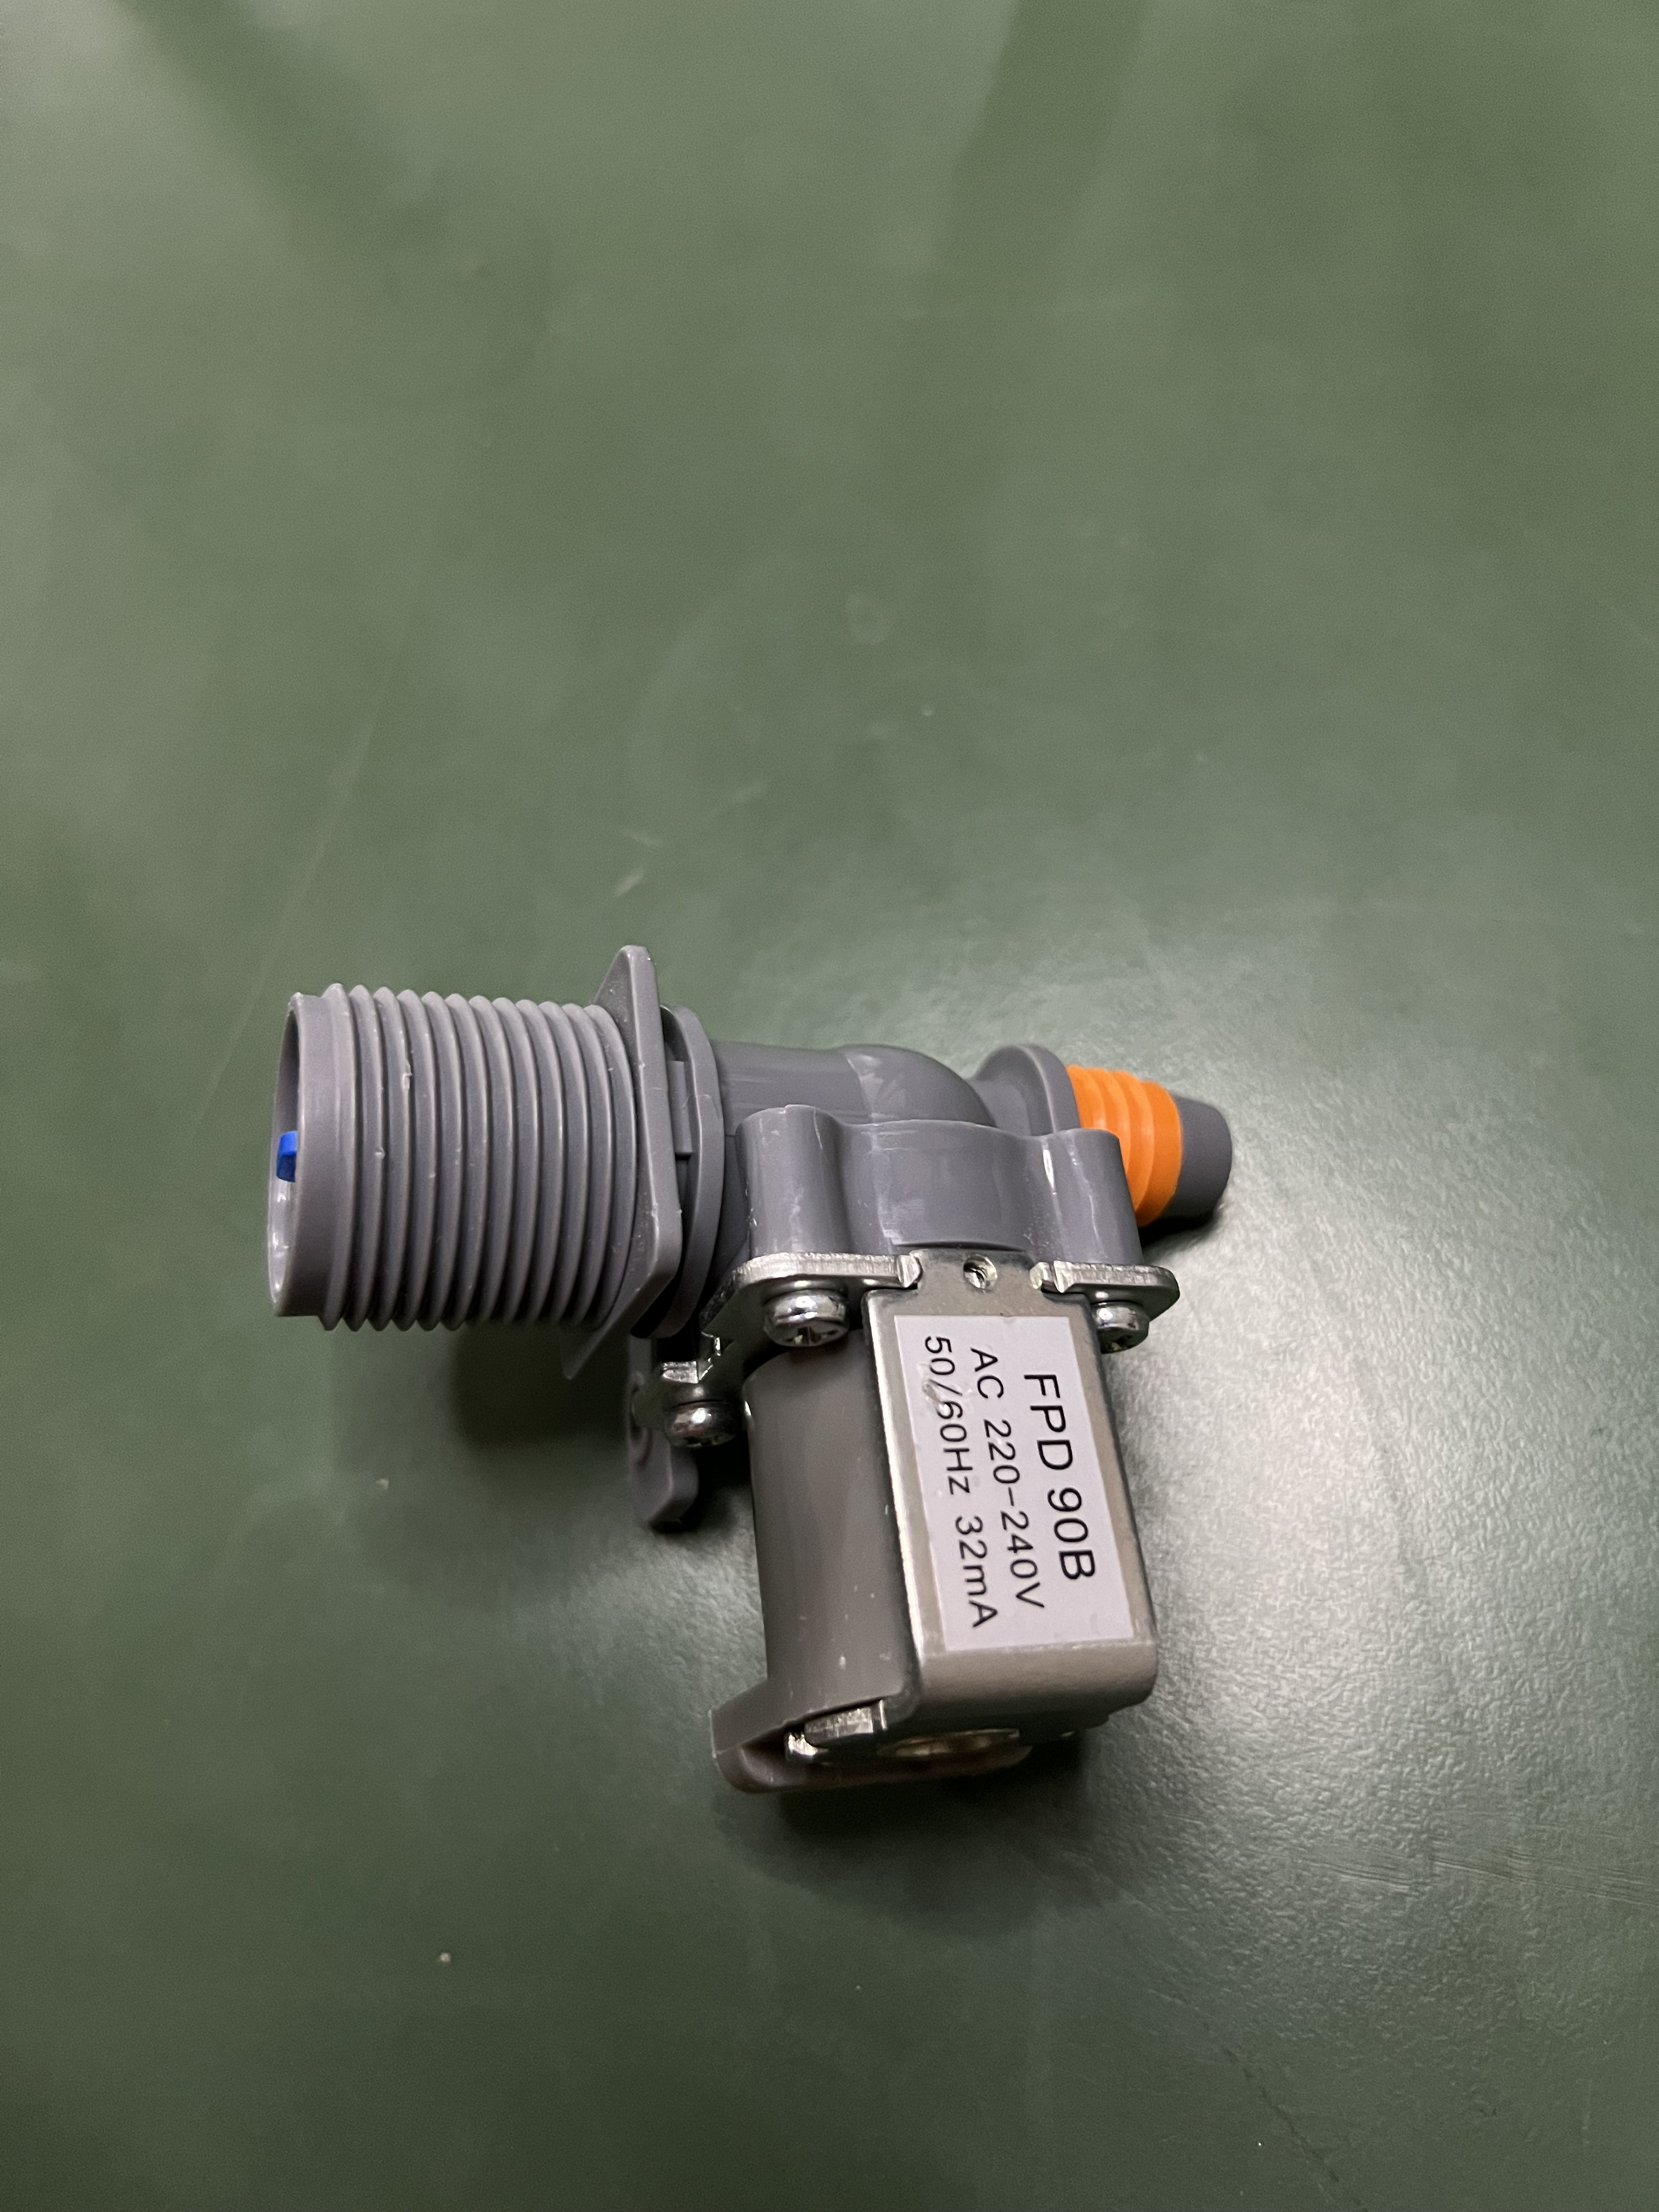inlet_valves: (235, 907, 1246, 1843)
